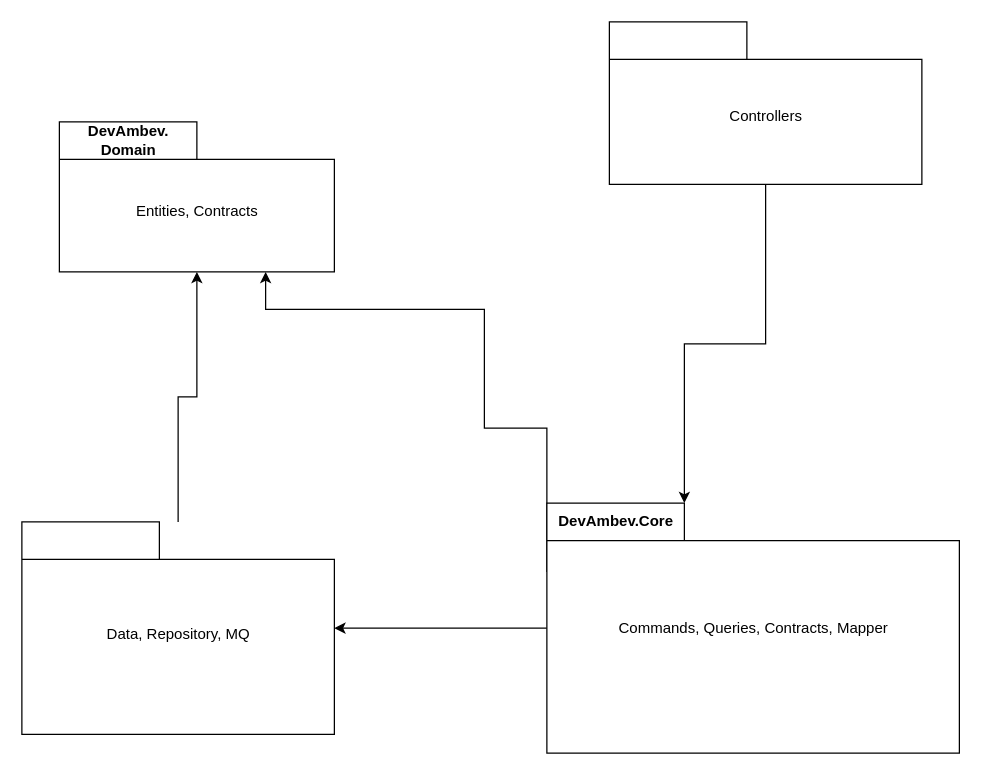
The diagram is 981 pixels wide and 775 high, and some of its shapes have lost their labels. The shapes that lost their labels are listed below. From the top down, each one's centre as x and y in pixels, then its label:
At pixel 765 102: "DevAmbev.Api".
At pixel 177 627: "DevAmbev.Infra".
